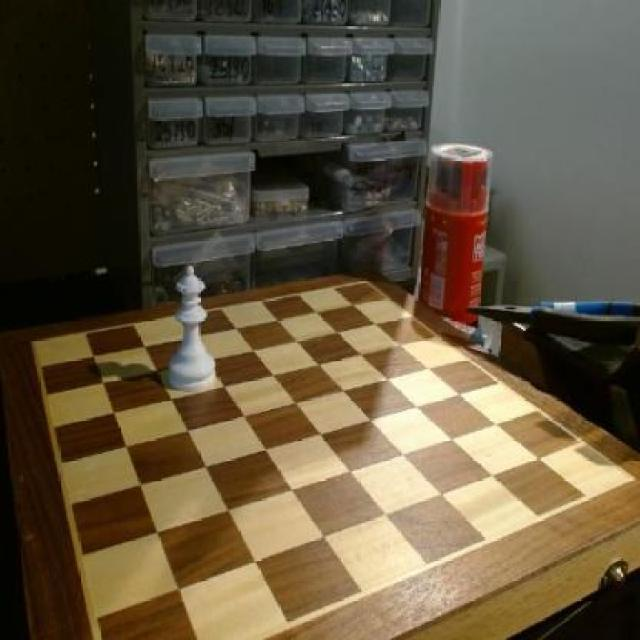white-pawn: (163, 263, 219, 391)
